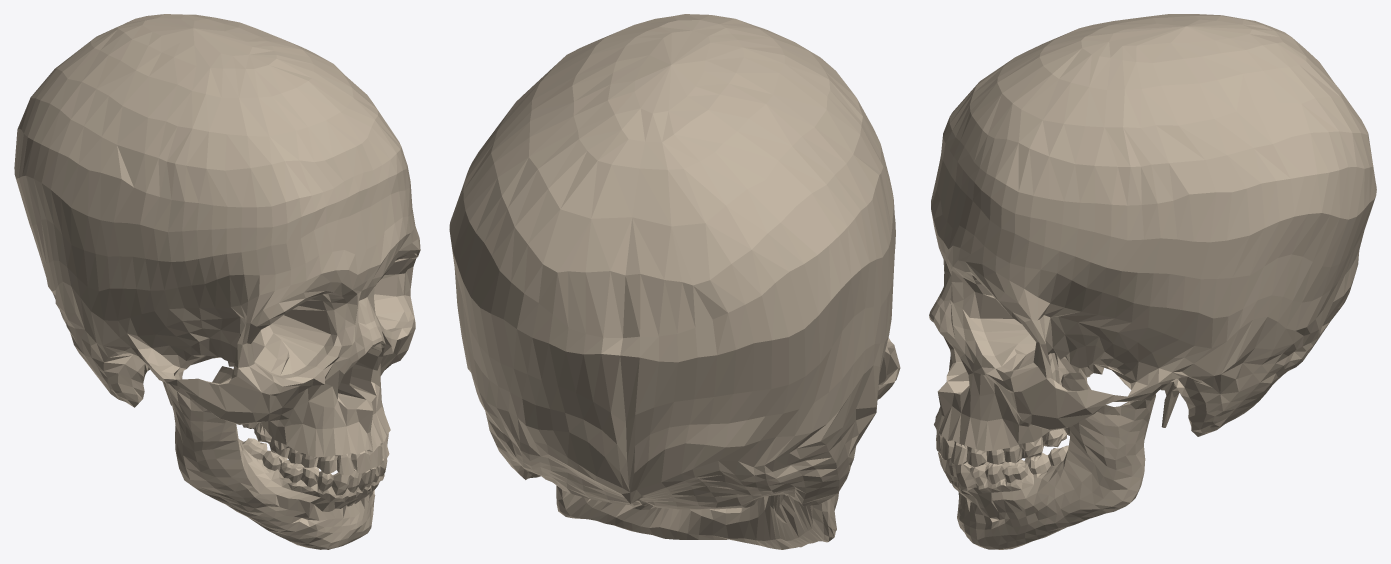
Rendered from skull.obj.
The picture shows the model from 3 angles, left to right: view 1: azimuth 30°, elevation 25°; view 2: azimuth 150°, elevation 25°; view 3: azimuth 270°, elevation 25°; orthographic projection. The views are drawn at different scales.
Parts seen in each view (by area): view 1: skull.002, jaw.002, lteeth.002, uteeth.002; view 2: skull.002, jaw.002; view 3: skull.002, jaw.002, lteeth.002, uteeth.002.
Boxes of the visible parts, bbox=[...] form: skull.002: bbox=[14, 14, 420, 460]; jaw.002: bbox=[165, 366, 384, 549]; lteeth.002: bbox=[242, 438, 387, 495]; uteeth.002: bbox=[242, 422, 389, 475]; skull.002: bbox=[449, 14, 900, 509]; jaw.002: bbox=[556, 485, 838, 549]; skull.002: bbox=[929, 14, 1376, 451]; jaw.002: bbox=[943, 372, 1156, 549]; lteeth.002: bbox=[938, 445, 1068, 487]; uteeth.002: bbox=[936, 427, 1069, 467].
Size of the model in its own units: 5.23 by 7.32 by 6.14.
